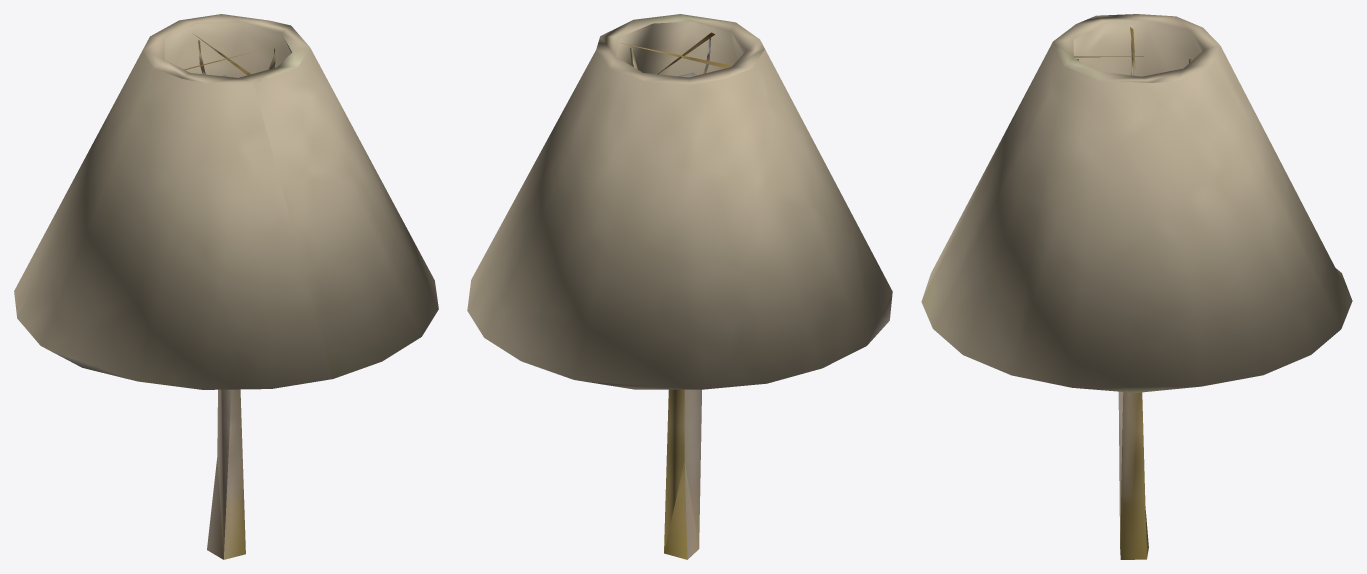
File: LampWatlas.fbx
3 renders of one model, left to right at view 1: azimuth 30°, elevation 25°; view 2: azimuth 150°, elevation 25°; view 3: azimuth 270°, elevation 25°, orthographic.
Visible parts, largest first — view 1: Lamp; view 2: Lamp; view 3: Lamp.
Part boxes in pixels (x1,y1,x2,y2): Lamp: (14,14,438,559); Lamp: (467,14,892,559); Lamp: (921,14,1352,559).
Size of the model in its own units: 37.6 by 48.64 by 37.5.
1 material, 1 textured.
